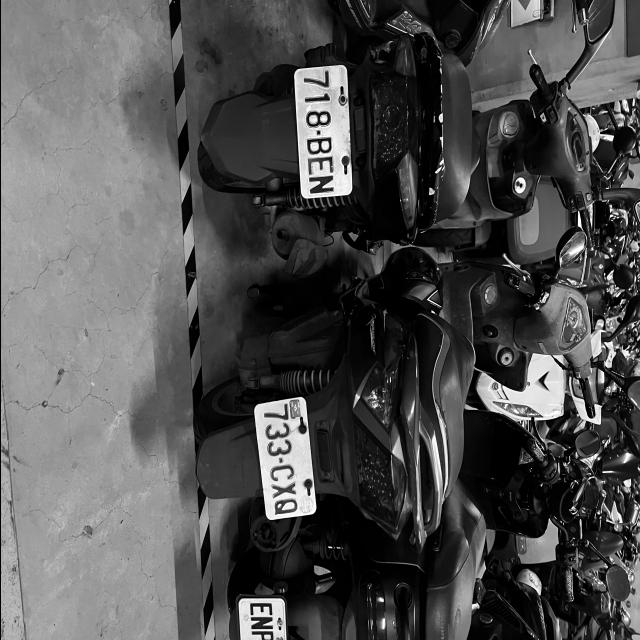-: (315, 128, 321, 136), (277, 457, 284, 463)
1: (301, 92, 331, 104)
3: (266, 440, 292, 458), (264, 422, 290, 439)
7: (300, 68, 331, 88), (263, 400, 289, 420)
8: (304, 107, 332, 130)
B: (306, 136, 334, 154)
C: (270, 464, 294, 482)
E: (306, 156, 333, 176), (248, 602, 274, 616)
N: (307, 174, 335, 194), (250, 616, 272, 630)
Q: (270, 498, 298, 518)
X: (271, 482, 297, 498)
plate: (300, 64, 346, 200), (262, 399, 306, 522)
